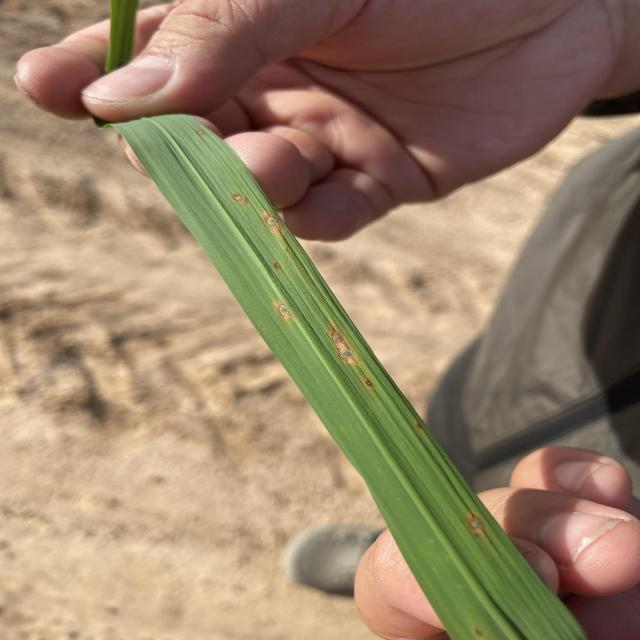Dao on: (330, 326, 355, 363), (264, 211, 283, 235), (273, 301, 290, 319), (469, 512, 484, 532), (233, 193, 248, 203), (366, 380, 373, 386), (275, 264, 281, 269), (198, 131, 204, 134)
